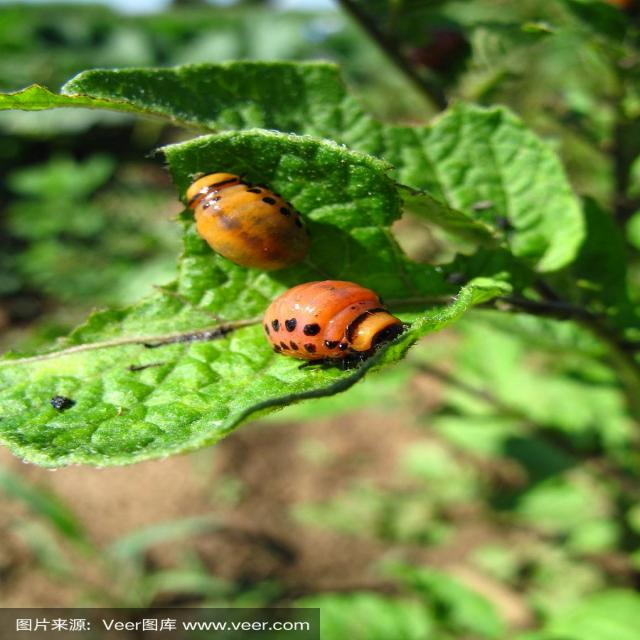ShuCaiHuaBanChong-Larva-: (221, 269, 460, 376), (170, 179, 327, 279)
